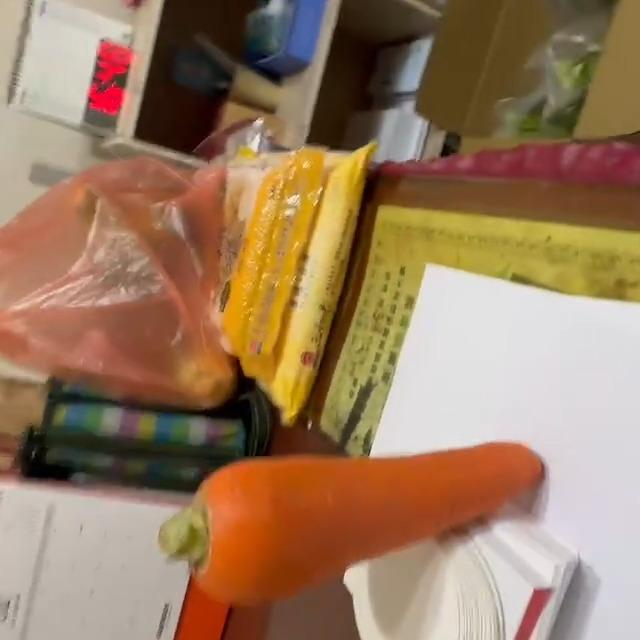carrot: (165, 436, 545, 604)
